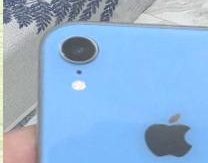scratch: (50, 40, 76, 59)
